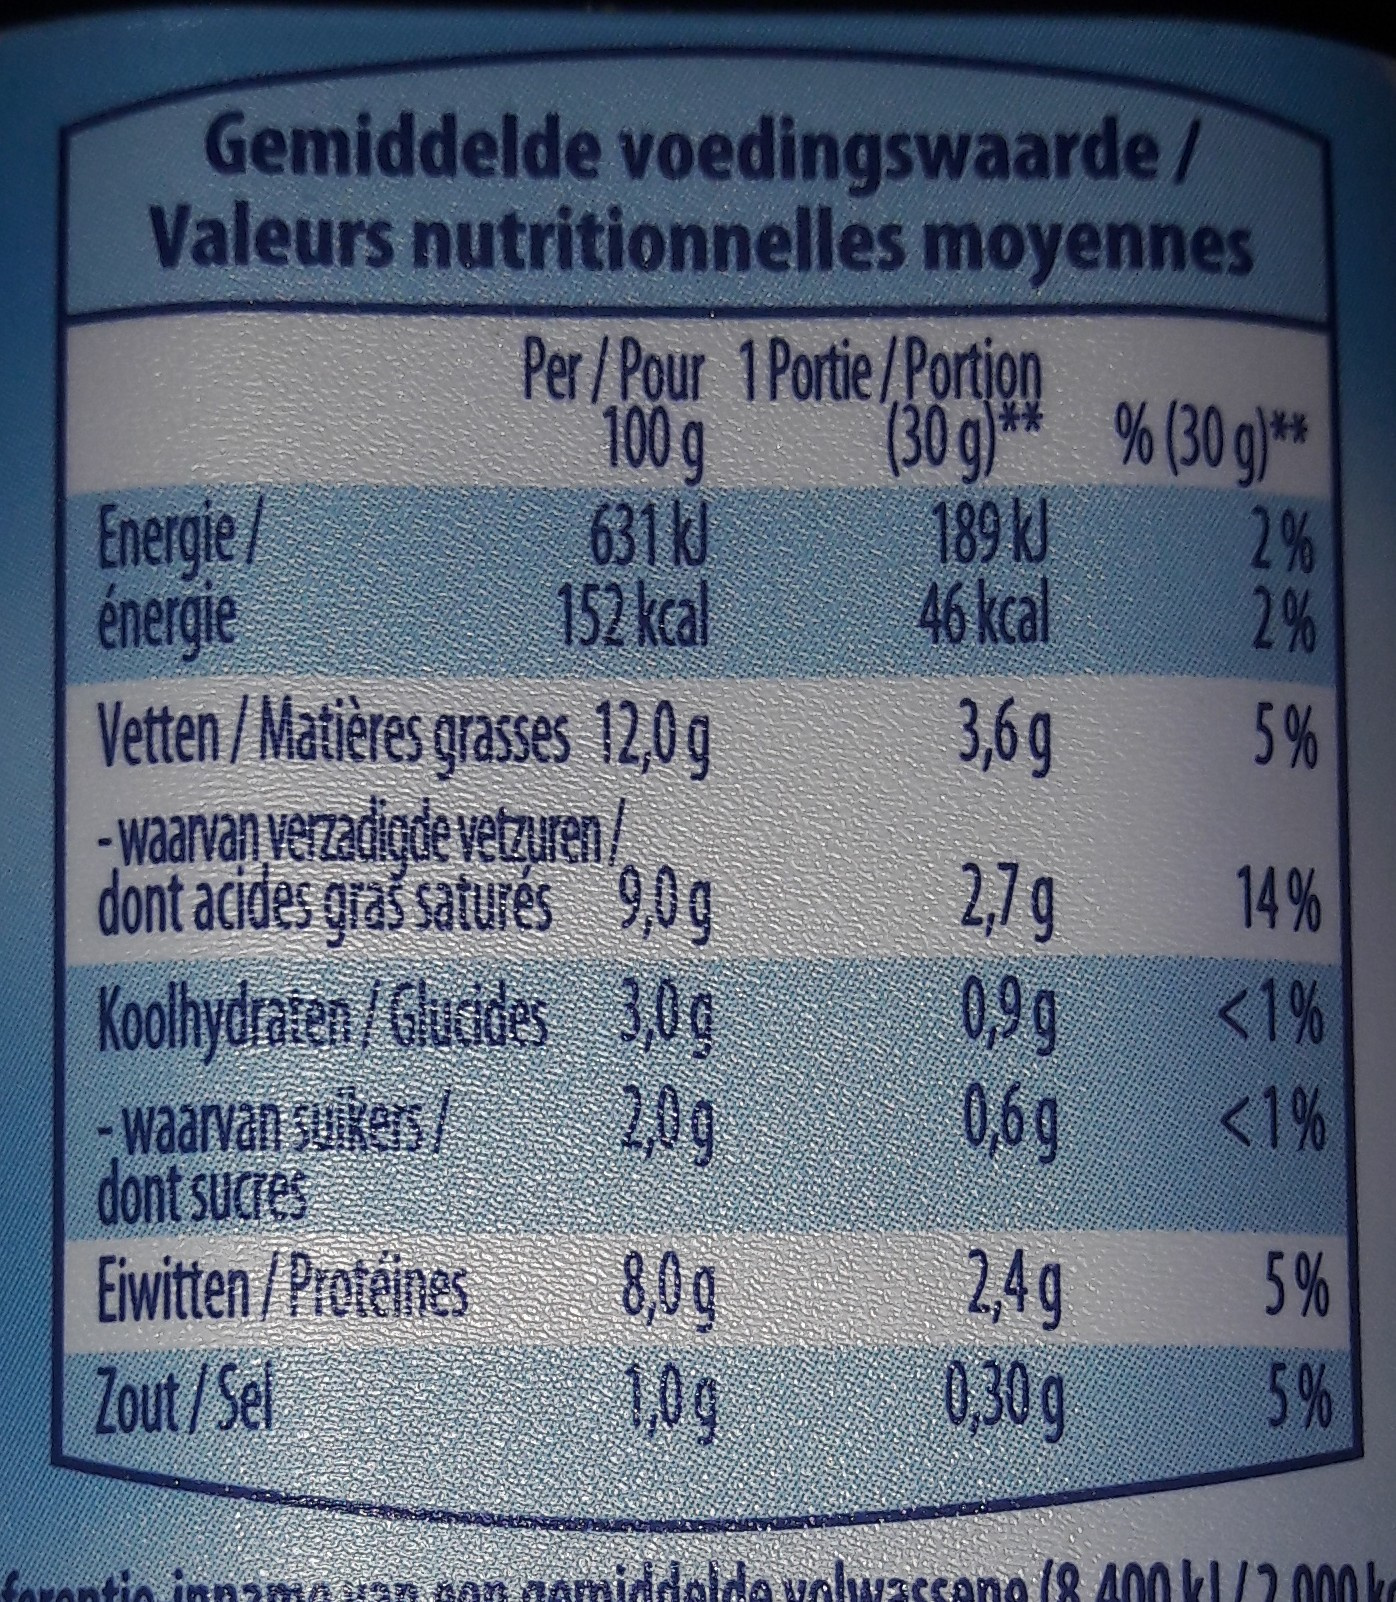column: (91, 313, 722, 1531), (738, 308, 1066, 1537), (1110, 307, 1333, 1541)
table: (45, 48, 1365, 1537)
